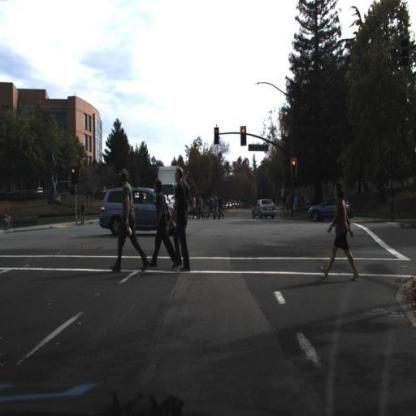car: (99, 186, 178, 239), (306, 197, 353, 224), (253, 198, 275, 223)
pedestrian: (320, 179, 362, 282), (112, 169, 148, 275), (170, 166, 194, 273), (150, 176, 175, 268), (217, 193, 225, 226), (207, 192, 216, 221), (191, 191, 199, 223), (198, 190, 206, 221), (213, 192, 220, 221), (81, 199, 87, 225), (295, 194, 299, 214), (287, 196, 291, 212), (290, 195, 293, 213), (284, 196, 286, 213)
trafficLight-Red: (291, 158, 299, 184), (240, 125, 248, 148)
trafficLight-RedLeft: (70, 166, 78, 189), (213, 122, 220, 145), (71, 168, 78, 186)
truck: (156, 166, 185, 215)
